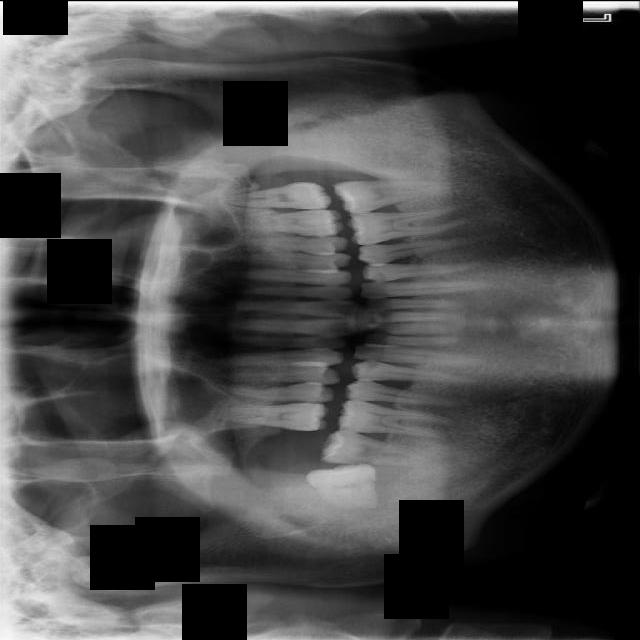52: (351, 457, 373, 463)
73: (538, 50, 538, 59)
BioHorizons Implant: (227, 180, 332, 209)
Blue Sky Bio Implant: (333, 177, 447, 213)
Implant: (320, 428, 432, 466)
Keystone Dental Implant: (306, 462, 376, 510)
